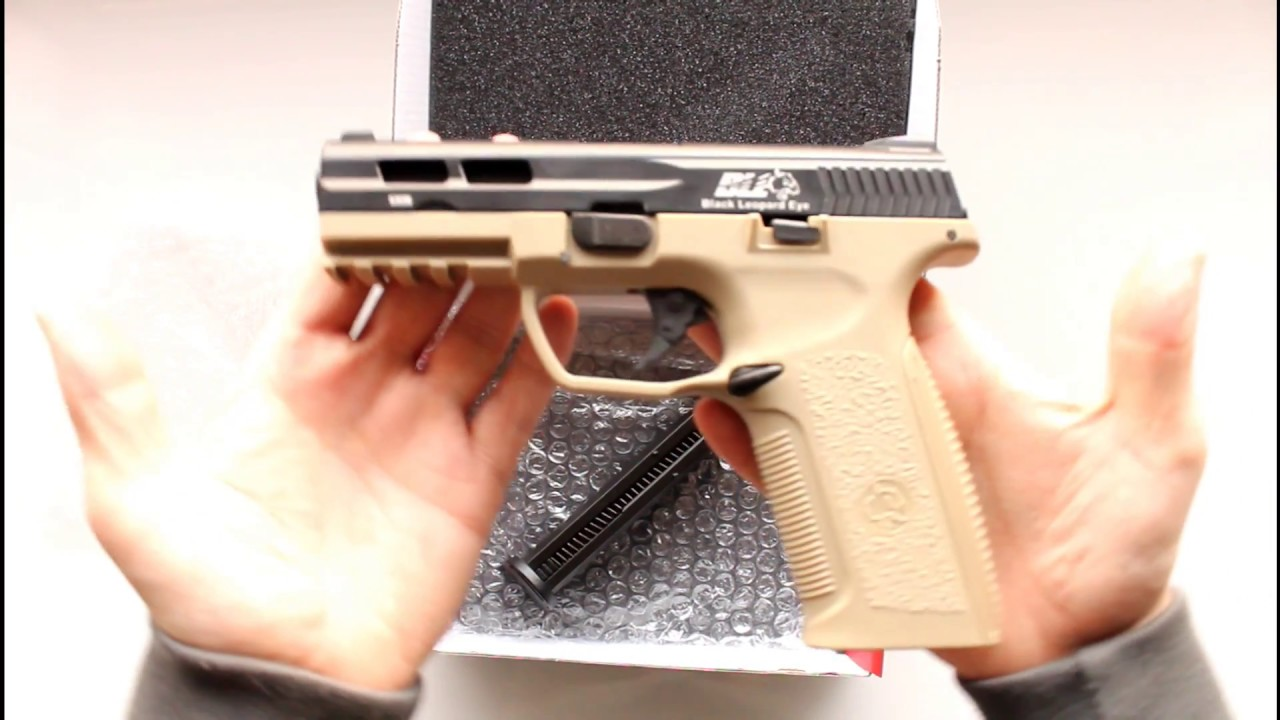asg_ics_ble_xae: (318, 129, 1007, 642)
